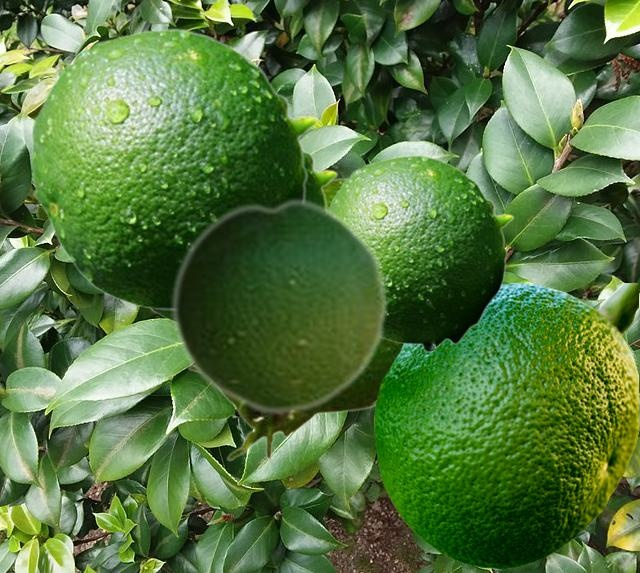dalandan: (30, 27, 317, 313), (374, 283, 637, 567), (186, 177, 399, 461), (170, 195, 388, 416), (329, 154, 513, 352), (148, 141, 337, 322)
